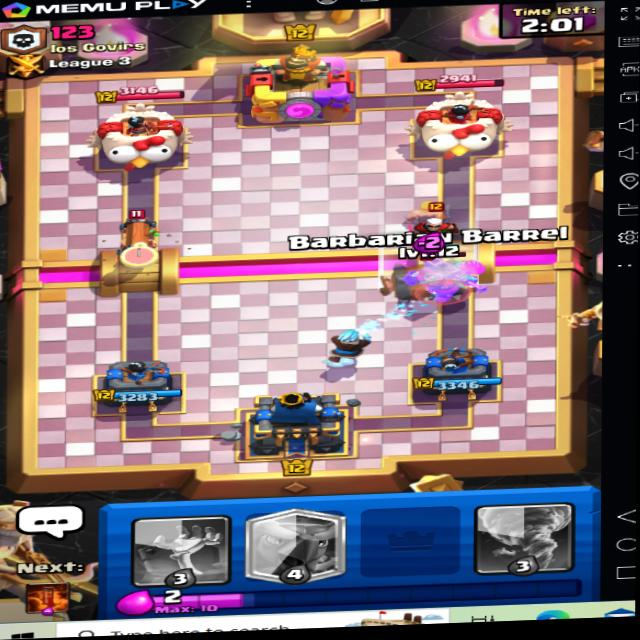battle-ram: (91, 214, 192, 280)
magic-archer: (412, 202, 470, 258)
skeleton-king: (388, 250, 499, 317)
